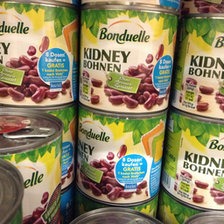beans: (79, 5, 178, 116), (76, 106, 161, 204), (1, 2, 75, 109), (163, 111, 224, 211), (178, 12, 224, 118)
